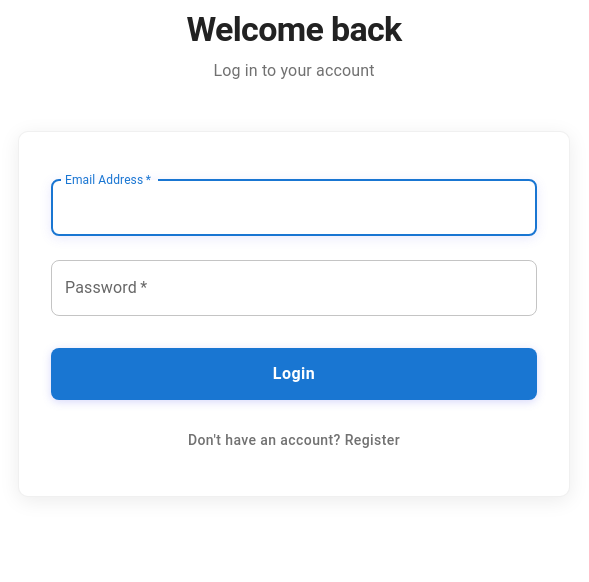
Test: Login Component › shows error message when login fails
Type "test@example.com" into the field labelled "Email Address *". click: (294, 208)
box: x1=51 y1=180 x2=537 y2=236
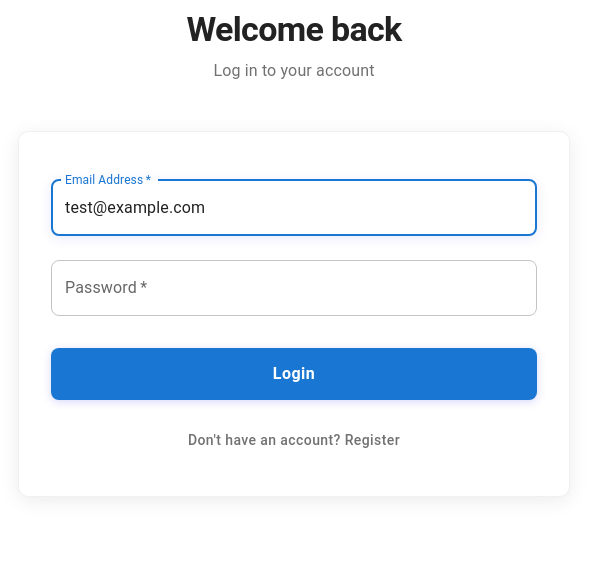
Type "wrongpassword" into the password field labelled "Password *". click: (294, 288)
box: x1=51 y1=260 x2=537 y2=316
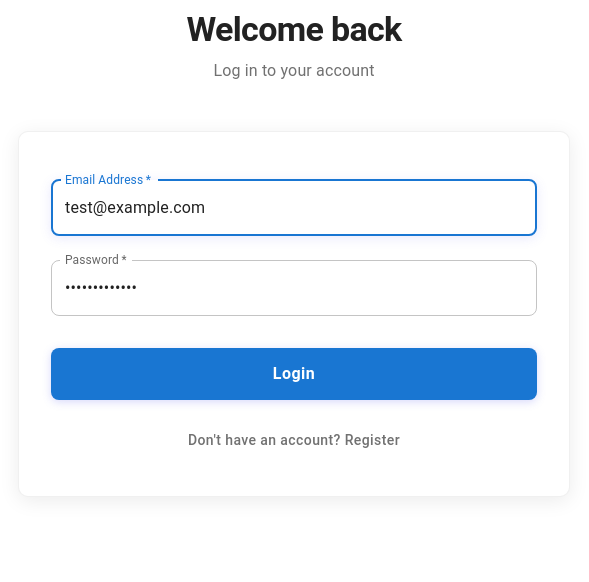
Click the button "Login". click: (294, 374)
box: x1=51 y1=348 x2=537 y2=400
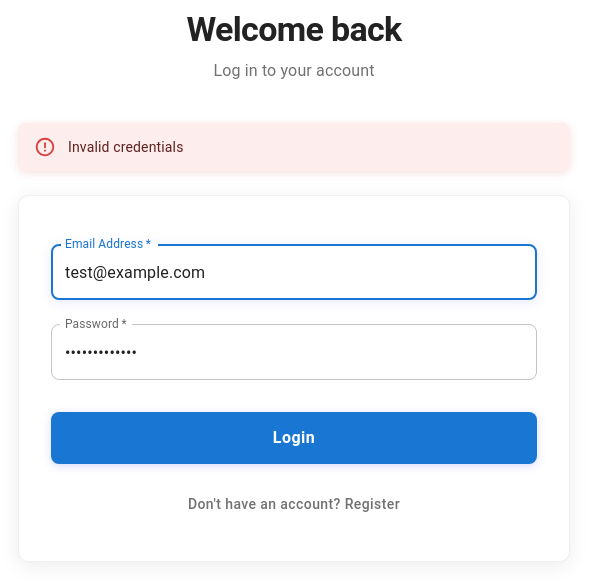
Expected: the text "Invalid credentials" is shown, x1=68 y1=139 x2=184 y2=155
